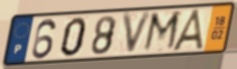0: (59, 16, 88, 59)
6: (31, 17, 58, 61)
8: (90, 14, 118, 56)
A: (170, 8, 207, 52)
M: (141, 9, 184, 54)
V: (121, 9, 155, 58)
